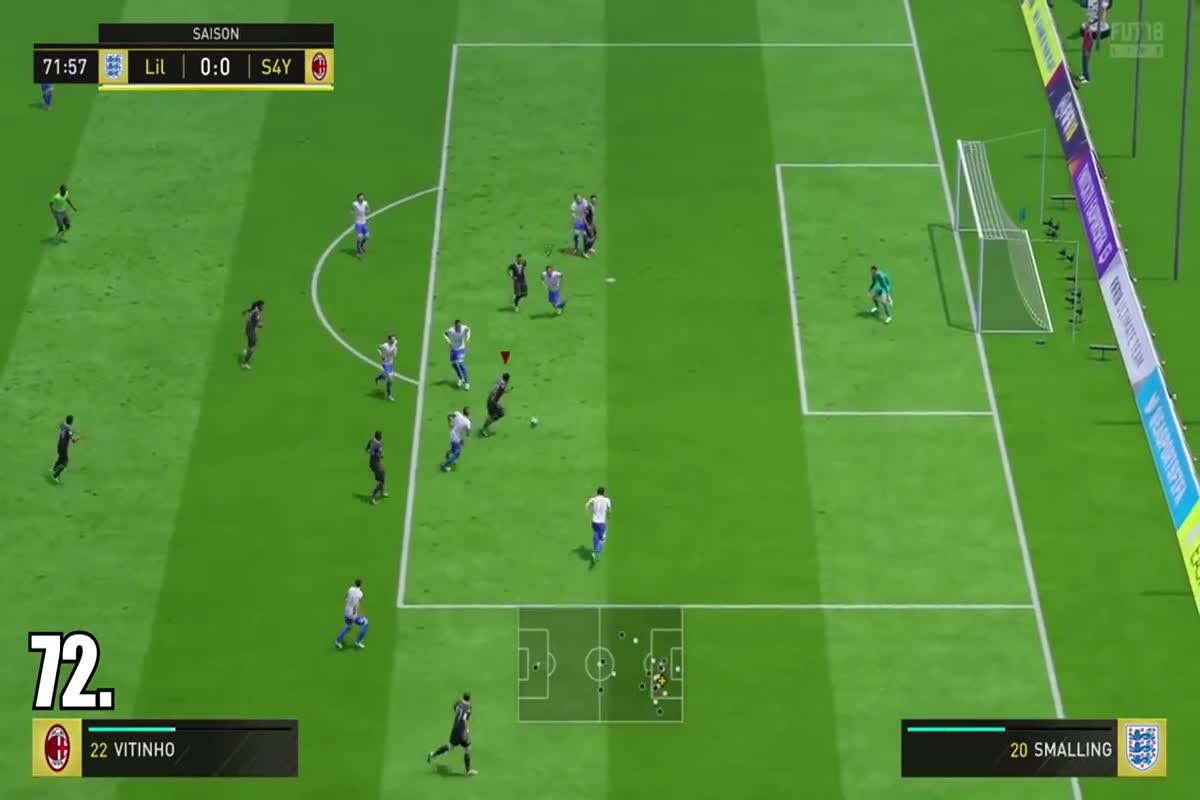ball: (519, 410, 547, 432)
